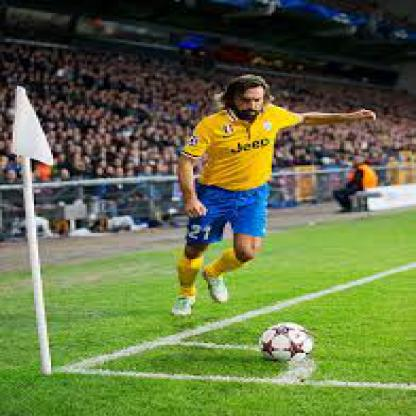corner kick: (10, 66, 392, 409)
